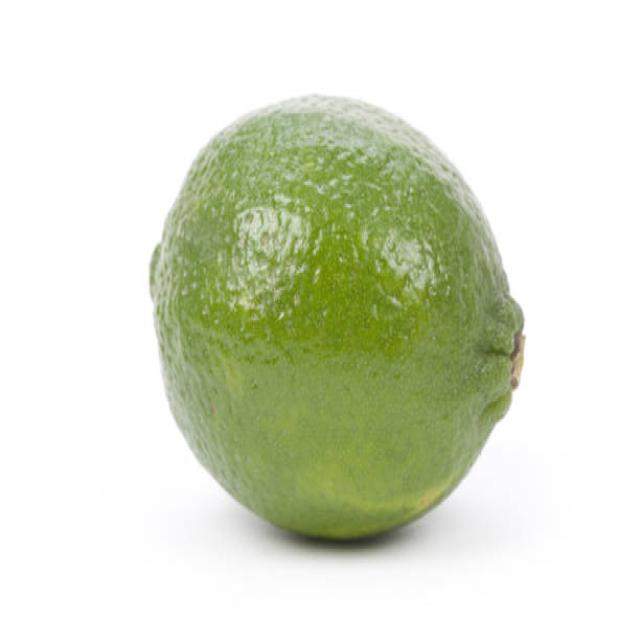Unripe: (149, 95, 526, 542)
